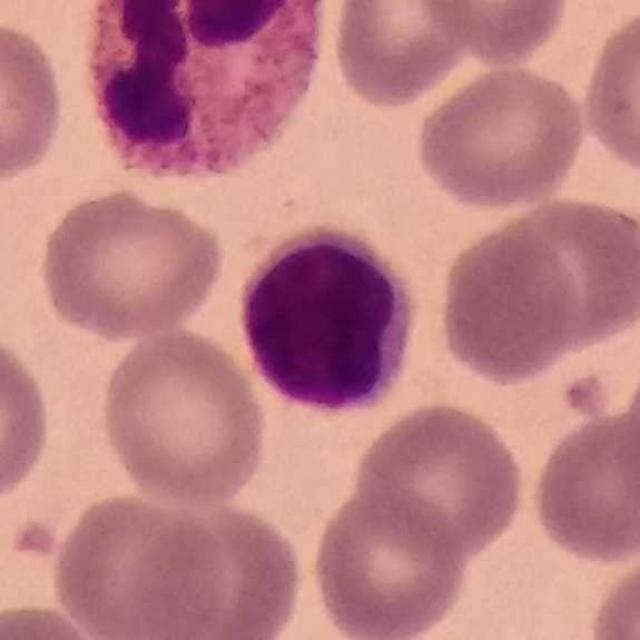Eosinophil: (71, 0, 329, 199)
Lymphocyte: (232, 222, 425, 419)
RBC: (96, 325, 272, 511), (34, 184, 230, 342), (349, 399, 530, 563), (46, 488, 228, 640), (412, 60, 590, 213), (122, 495, 308, 640), (473, 193, 640, 354), (434, 212, 584, 390), (307, 483, 471, 640), (526, 405, 640, 568), (327, 0, 480, 111), (0, 15, 69, 188), (577, 1, 640, 179), (418, 0, 574, 69), (0, 326, 56, 511), (583, 548, 640, 640), (0, 599, 112, 640)
